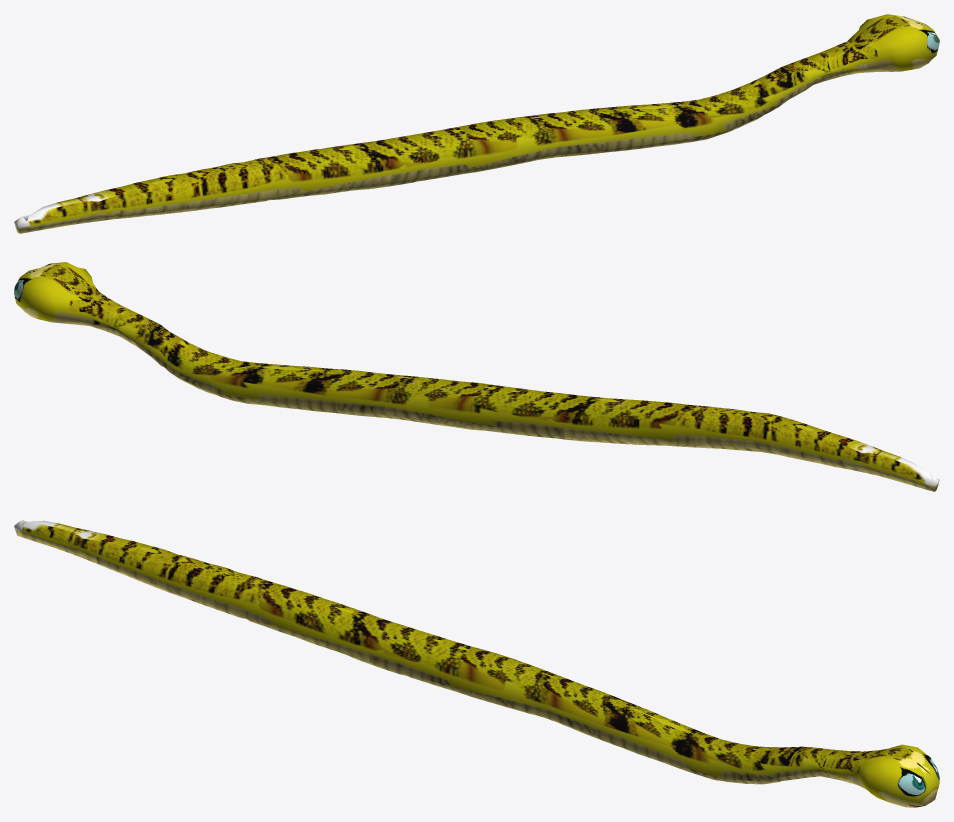
File: snake_aug_9.obj
The picture shows the model from 3 angles, top to bottom: view 1: azimuth 30°, elevation 25°; view 2: azimuth 150°, elevation 25°; view 3: azimuth 330°, elevation 25°; orthographic projection.
Bounding box in the file's own units: 100 × 10.24 × 7.41.
Materials: 1 (1 with a texture image).
